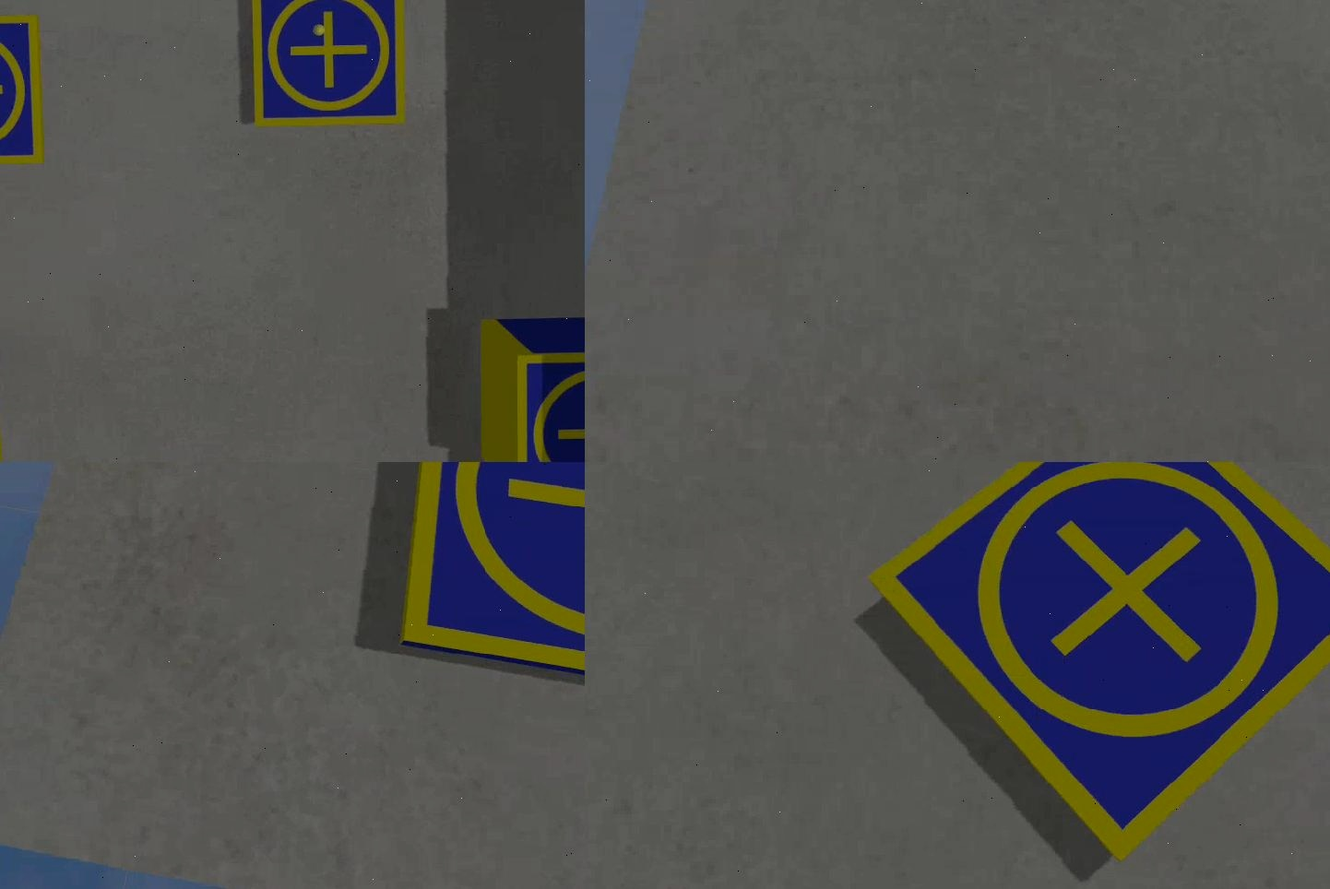small_base: (865, 462, 1330, 860), (401, 462, 585, 713), (253, 1, 405, 131), (516, 347, 585, 462), (1, 11, 44, 169)
